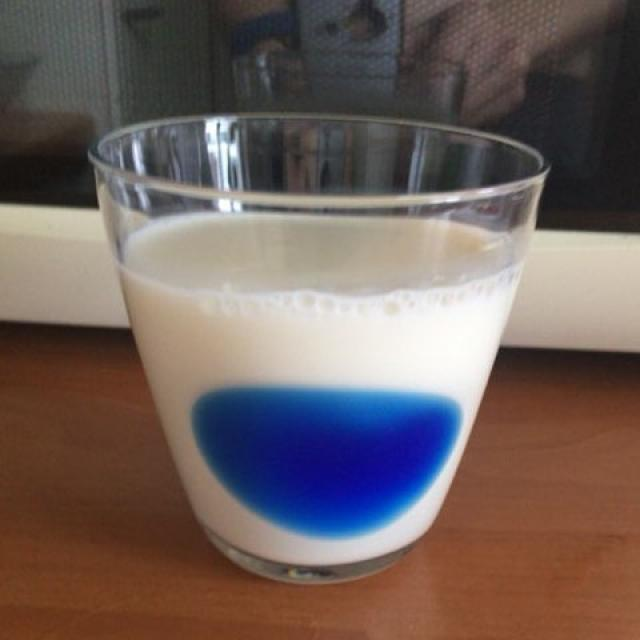milk: (119, 207, 523, 551)
